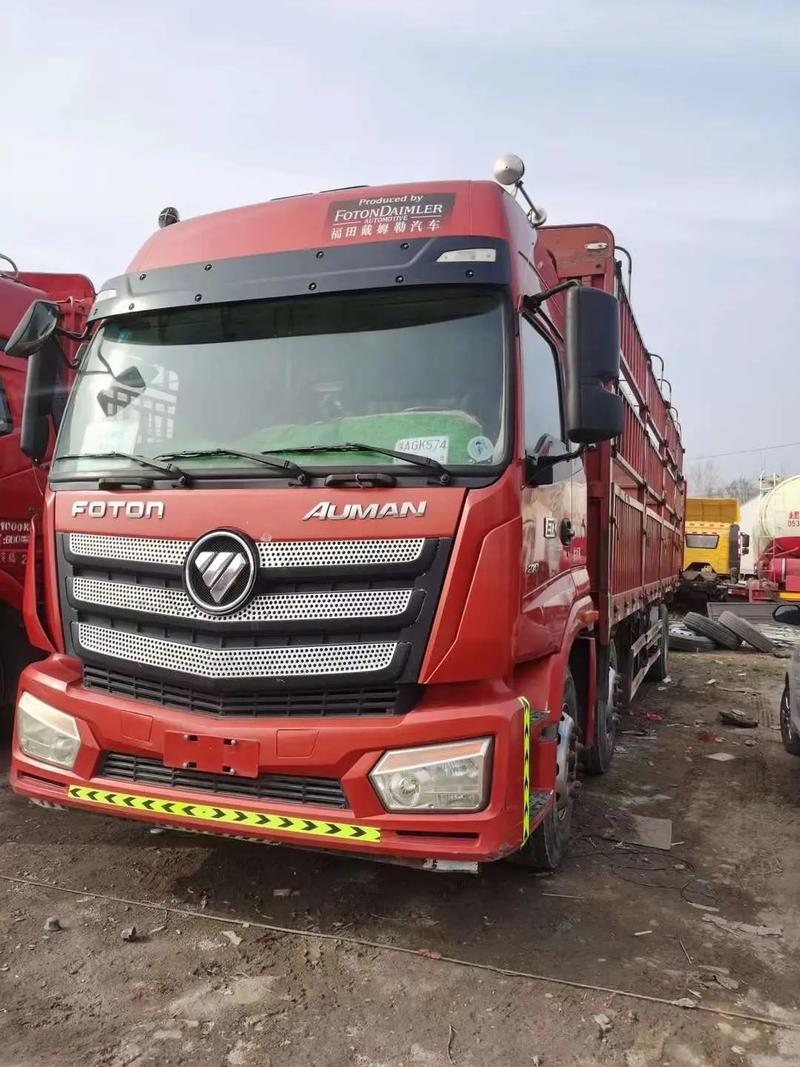卡车: (19, 136, 712, 902)
